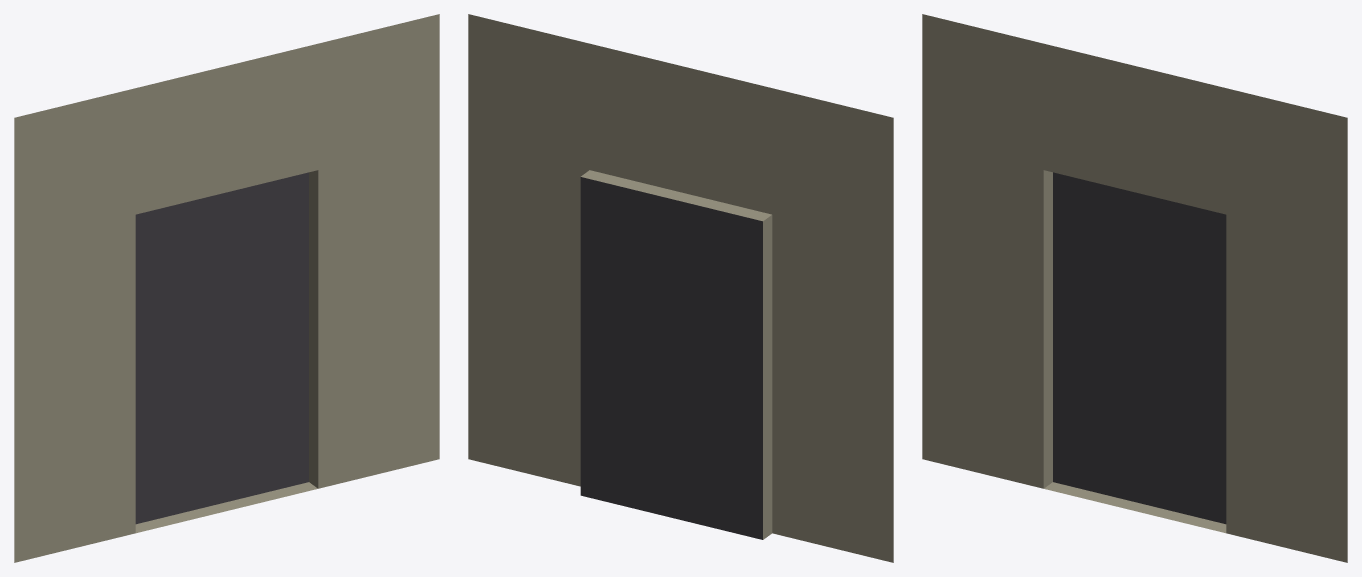
The model's file is S_b_door.fbx.
3 views of the same model, side by side, from view 1: azimuth 30°, elevation 25°; view 2: azimuth 150°, elevation 25°; view 3: azimuth 330°, elevation 25° (orthographic).
Parts seen in each view (by area): view 1: b_door; view 2: b_door; view 3: b_door.
Boxes of the visible parts, x1,y1,x2,y2 form: b_door: [14, 14, 439, 562]; b_door: [468, 14, 893, 562]; b_door: [922, 14, 1347, 562].
Size of the model in its own units: 400 by 400 by 15.
